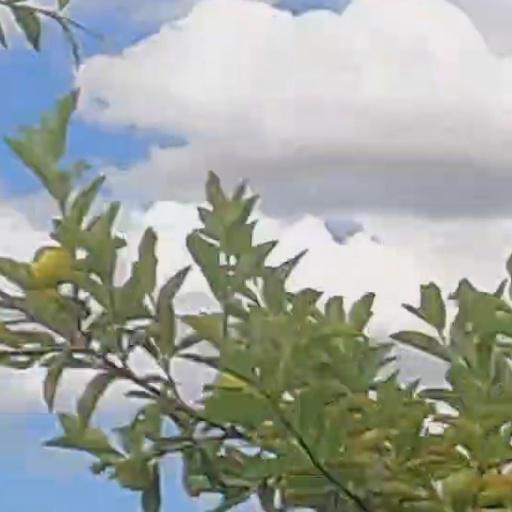acerola: (33, 249, 69, 282)
